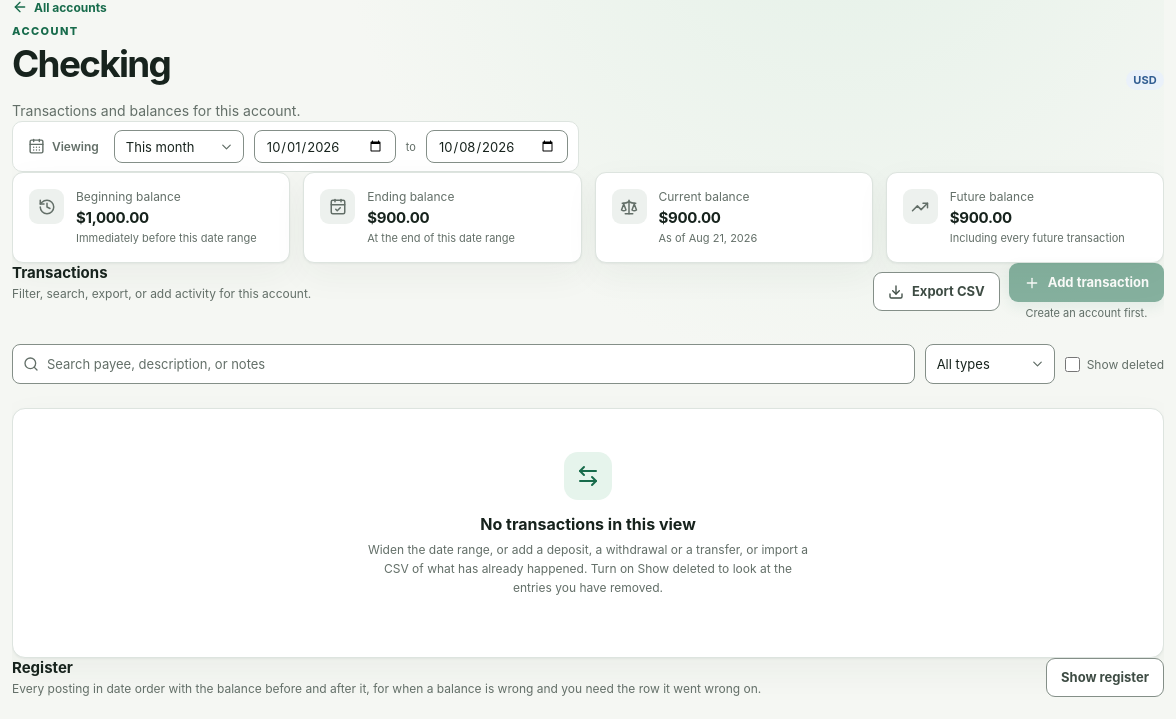
Test case: an account's register › is not fetched until it is asked for
Expected: the heading "Register" is shown, left=12, top=658, right=73, bottom=677
Click the button "Show register": click(1105, 678) left=1046, top=658, right=1164, bottom=697
(page scrolled)
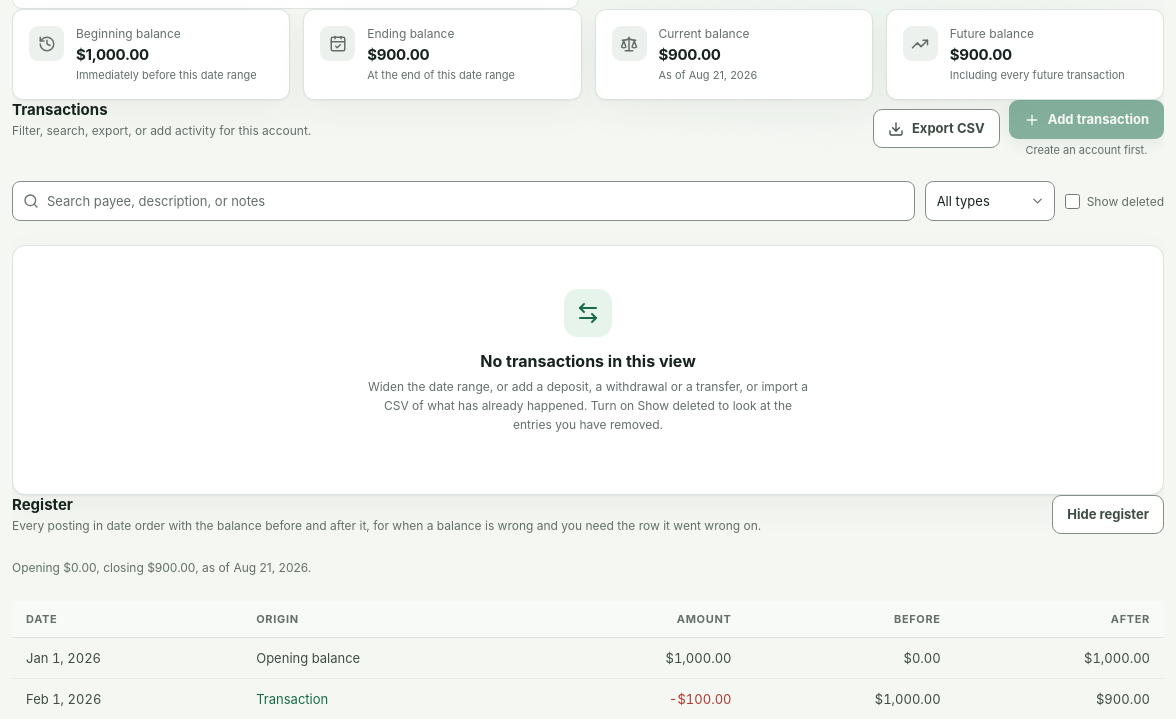
Result: the column heading "Feb 1, 2026" is shown at left=12, top=679, right=242, bottom=718
